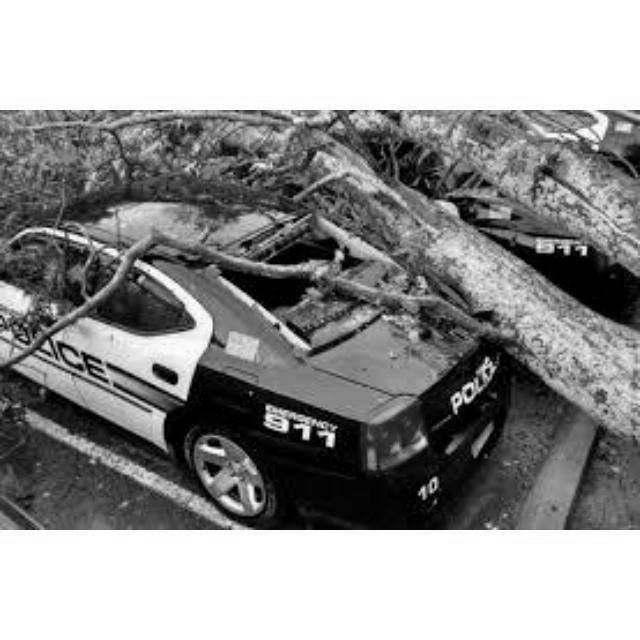Rear-windscreen-Damage: (241, 222, 423, 330)
